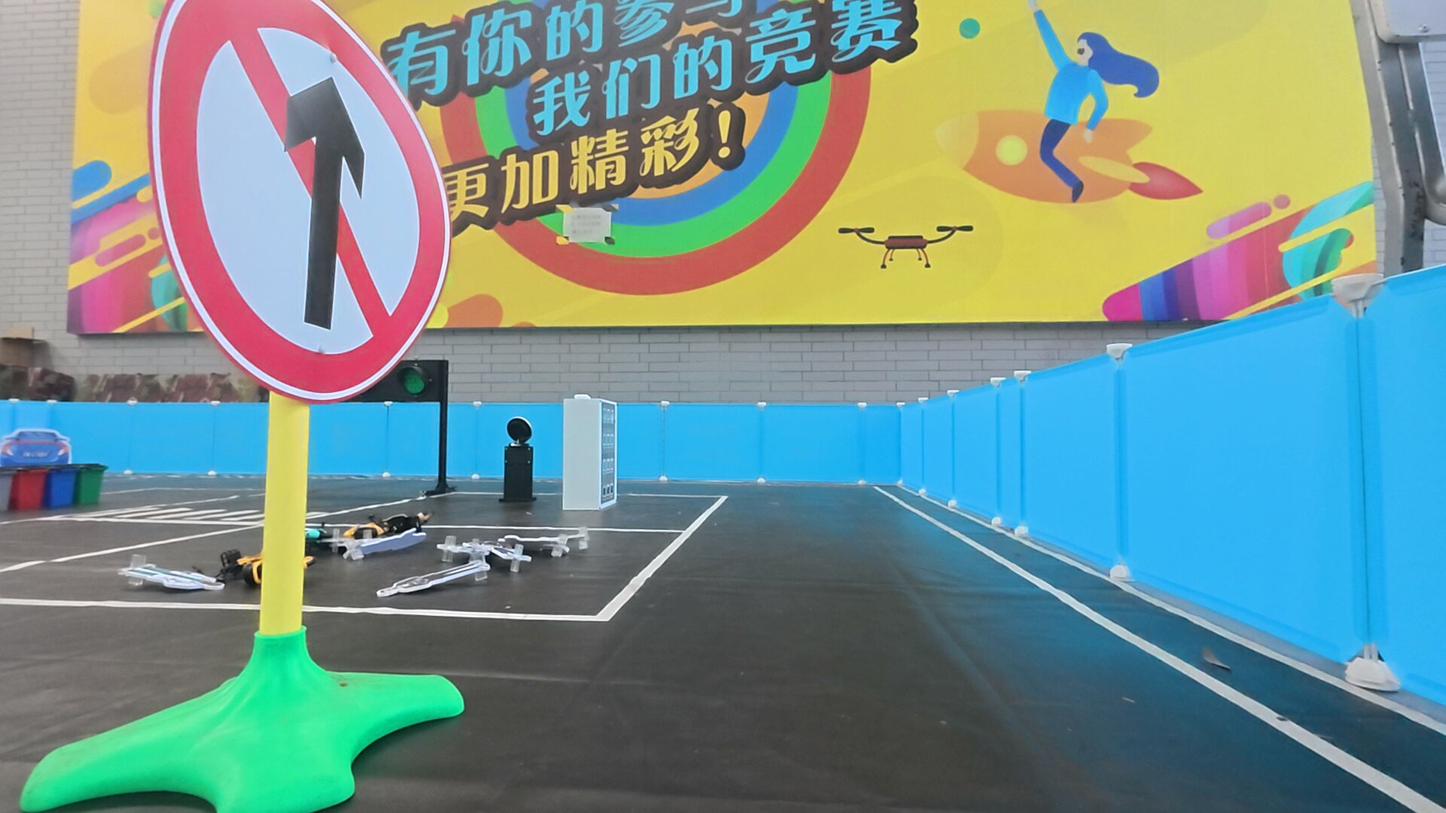obstacle: (145, 4, 459, 407)
